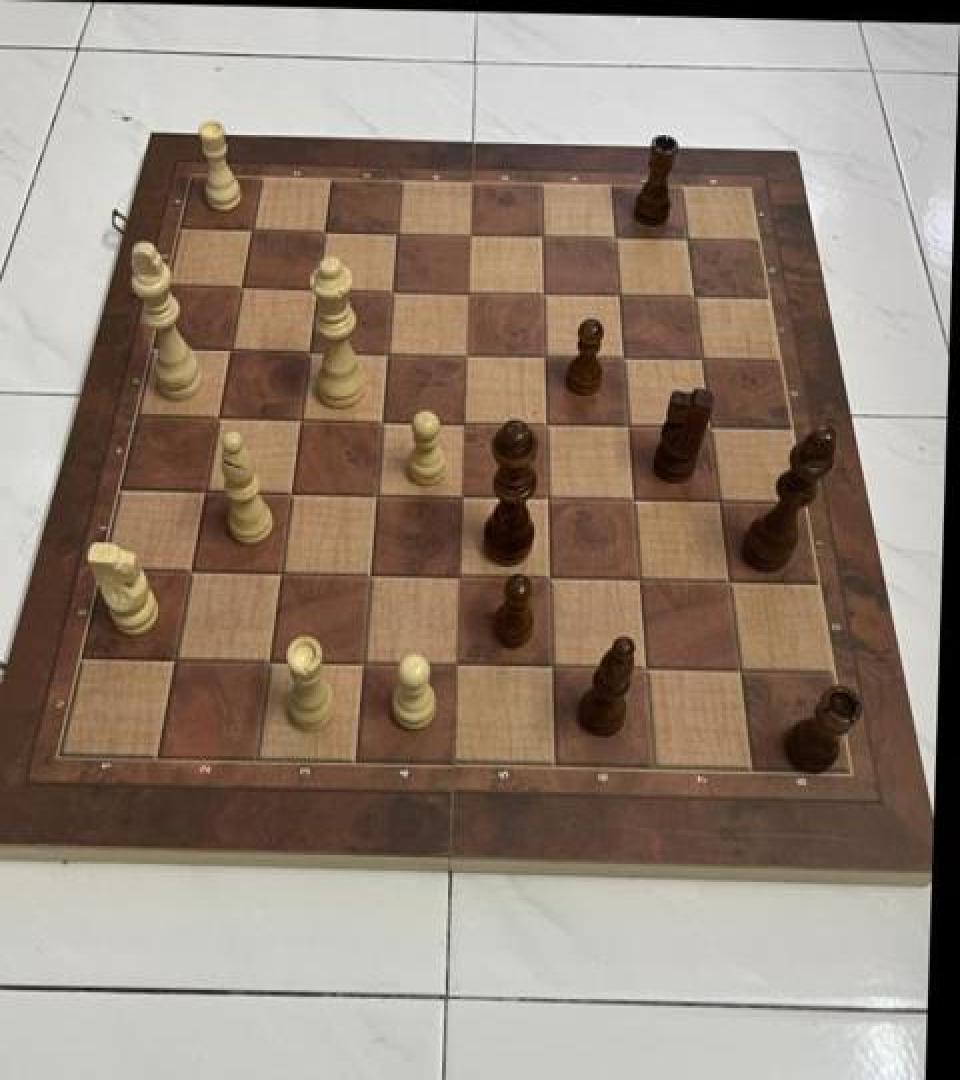xcorner: (671, 219, 705, 258), (527, 273, 561, 312), (451, 272, 485, 311), (528, 335, 562, 374), (724, 650, 758, 689), (346, 642, 380, 681), (598, 218, 632, 256), (526, 216, 560, 254), (453, 215, 487, 253), (380, 213, 414, 251), (308, 212, 342, 250), (235, 210, 269, 248), (678, 277, 712, 315), (602, 276, 636, 314), (376, 270, 410, 308), (300, 269, 334, 307), (225, 267, 259, 305), (686, 339, 720, 377), (607, 338, 641, 376), (450, 334, 484, 372), (371, 332, 405, 370), (292, 331, 326, 369), (214, 328, 248, 366), (694, 408, 728, 446), (612, 405, 646, 443), (530, 403, 564, 441), (448, 402, 482, 440), (365, 400, 399, 438), (283, 397, 317, 435), (201, 396, 235, 434), (703, 480, 737, 518), (617, 480, 651, 518), (531, 477, 565, 515), (445, 475, 479, 513), (360, 472, 394, 510), (274, 472, 308, 510), (188, 469, 222, 507), (713, 562, 747, 600), (623, 559, 657, 597), (533, 557, 567, 595), (443, 556, 477, 594), (353, 554, 387, 592), (263, 552, 297, 590), (173, 549, 207, 587), (630, 648, 664, 686), (535, 646, 569, 684), (441, 644, 475, 682), (252, 640, 286, 678), (157, 638, 191, 676)
